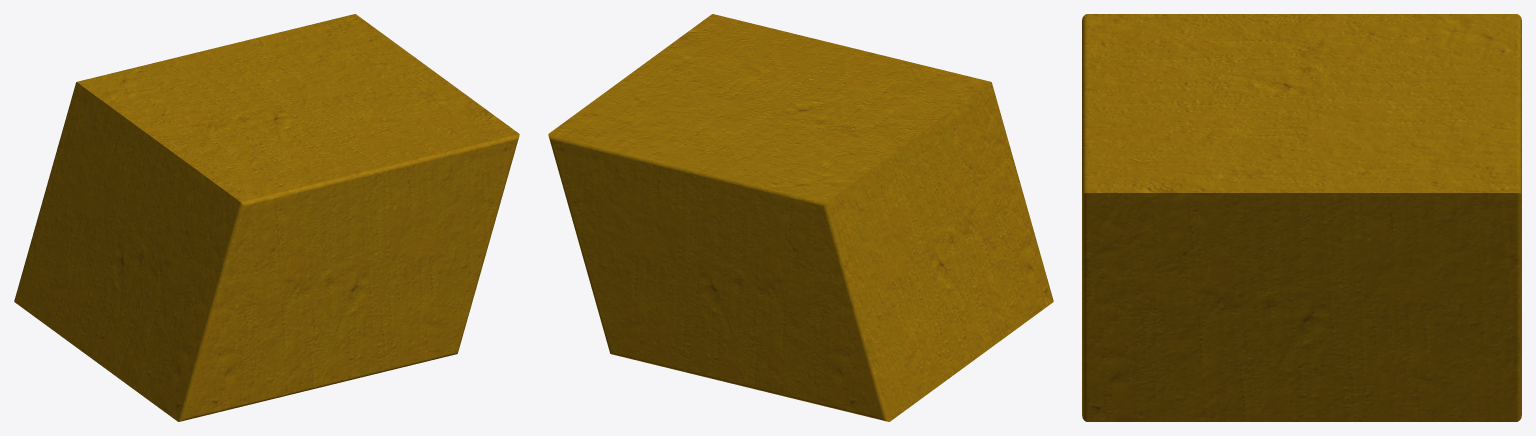
The model's file is parallelogram.glb.
3 renders of one model, left to right at view 1: azimuth 30°, elevation 25°; view 2: azimuth 150°, elevation 25°; view 3: azimuth 270°, elevation 25°, orthographic. The views are drawn at different scales.
Visible parts, largest first — view 1: parallelogram_2; view 2: parallelogram_2; view 3: parallelogram_2.
Boxes of the visible parts, box(x1,y1,x2,y2) form: parallelogram_2: box(14, 14, 519, 421); parallelogram_2: box(548, 14, 1053, 421); parallelogram_2: box(1082, 14, 1521, 421).
Bounding box in the file's own units: 0.0471 × 0.027 × 0.04.
Materials: 1 (1 with a texture image).
